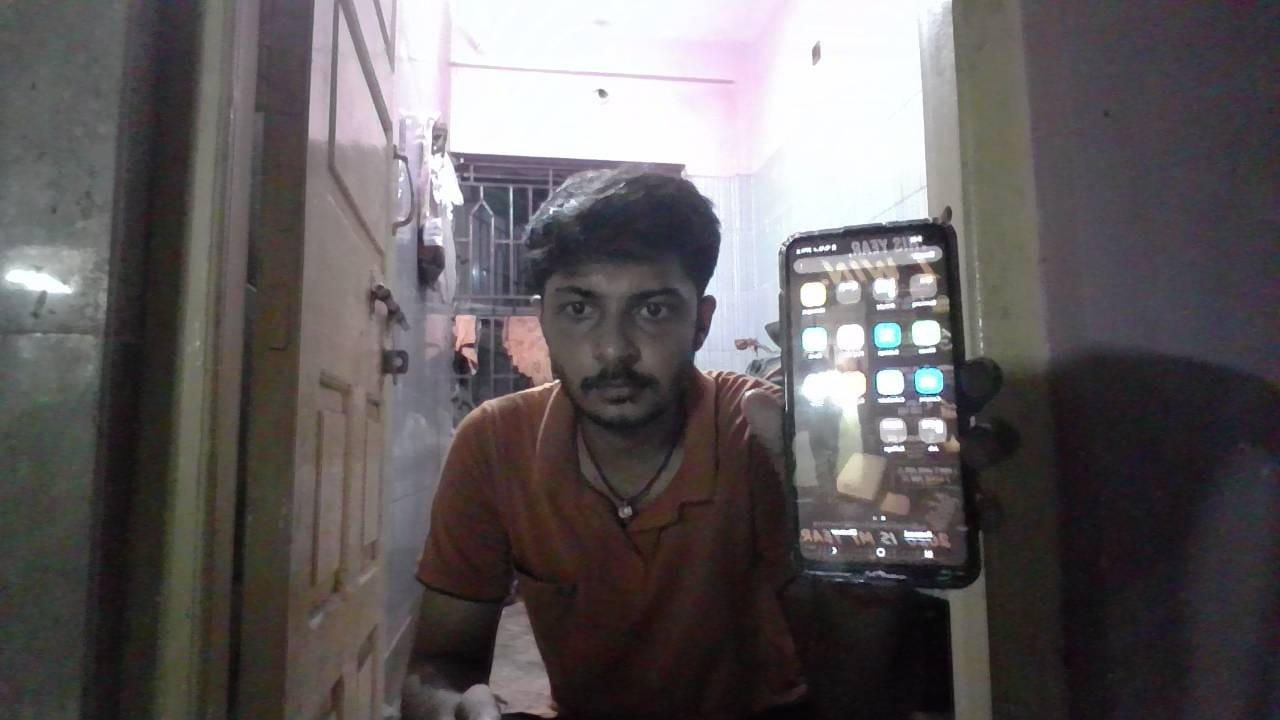red_box: (421, 394, 598, 583), (630, 444, 713, 542)
